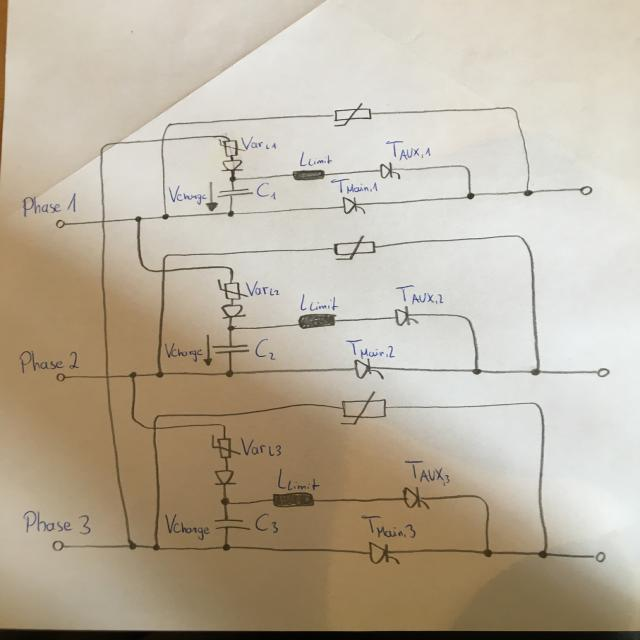capacitor: (212, 518, 252, 530), (212, 343, 250, 354), (217, 187, 254, 197)
crossover: (101, 372, 112, 380), (159, 267, 168, 274), (150, 424, 158, 430), (99, 218, 107, 224), (159, 137, 166, 142)
diode: (219, 303, 246, 320), (212, 468, 237, 486), (220, 158, 244, 172)
inductor: (271, 491, 315, 508), (296, 313, 338, 329), (291, 169, 325, 181)
junction: (163, 121, 179, 133), (474, 494, 489, 506), (515, 234, 530, 246), (130, 417, 146, 428), (138, 261, 152, 272), (125, 538, 137, 550), (458, 313, 472, 323), (531, 401, 543, 412), (152, 412, 164, 422), (219, 496, 231, 506), (529, 367, 542, 376), (536, 550, 550, 558), (480, 548, 492, 557), (224, 368, 234, 378), (460, 164, 471, 173), (126, 370, 138, 378), (522, 188, 534, 196), (505, 105, 517, 113), (99, 142, 111, 150), (151, 542, 161, 551), (465, 191, 475, 200), (471, 367, 482, 375), (154, 370, 164, 378), (221, 543, 231, 551), (220, 133, 233, 139), (226, 324, 237, 331), (228, 174, 237, 182), (160, 213, 170, 220), (226, 209, 234, 217), (161, 253, 170, 260), (134, 215, 142, 222), (223, 264, 232, 270), (216, 422, 226, 427)
terminal: (590, 550, 606, 563), (51, 539, 66, 551), (595, 367, 610, 378), (577, 185, 593, 195), (54, 372, 68, 381), (54, 218, 66, 228)
text: (22, 509, 91, 534), (16, 349, 80, 374), (20, 192, 78, 218), (359, 514, 416, 539), (163, 512, 211, 540), (402, 459, 450, 486), (344, 338, 395, 359), (276, 467, 320, 490), (394, 284, 444, 304), (384, 140, 431, 160), (239, 436, 282, 456), (167, 184, 207, 205), (163, 341, 203, 362), (329, 177, 378, 194), (298, 292, 338, 312), (298, 150, 332, 167), (243, 280, 279, 296), (253, 512, 279, 533), (252, 338, 276, 360), (240, 136, 277, 150), (255, 182, 278, 200)
thyristor: (368, 541, 400, 563), (352, 358, 383, 378), (402, 486, 429, 507), (393, 305, 418, 326), (341, 196, 365, 213), (379, 161, 400, 178)
